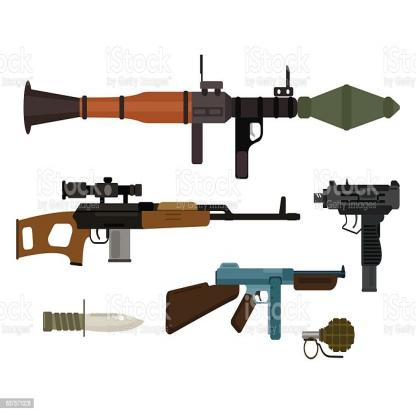Grenade: (302, 314, 355, 361)
Gun: (23, 52, 401, 180), (15, 175, 301, 267), (165, 260, 346, 342), (314, 178, 401, 292)
Knife: (43, 297, 144, 340)
